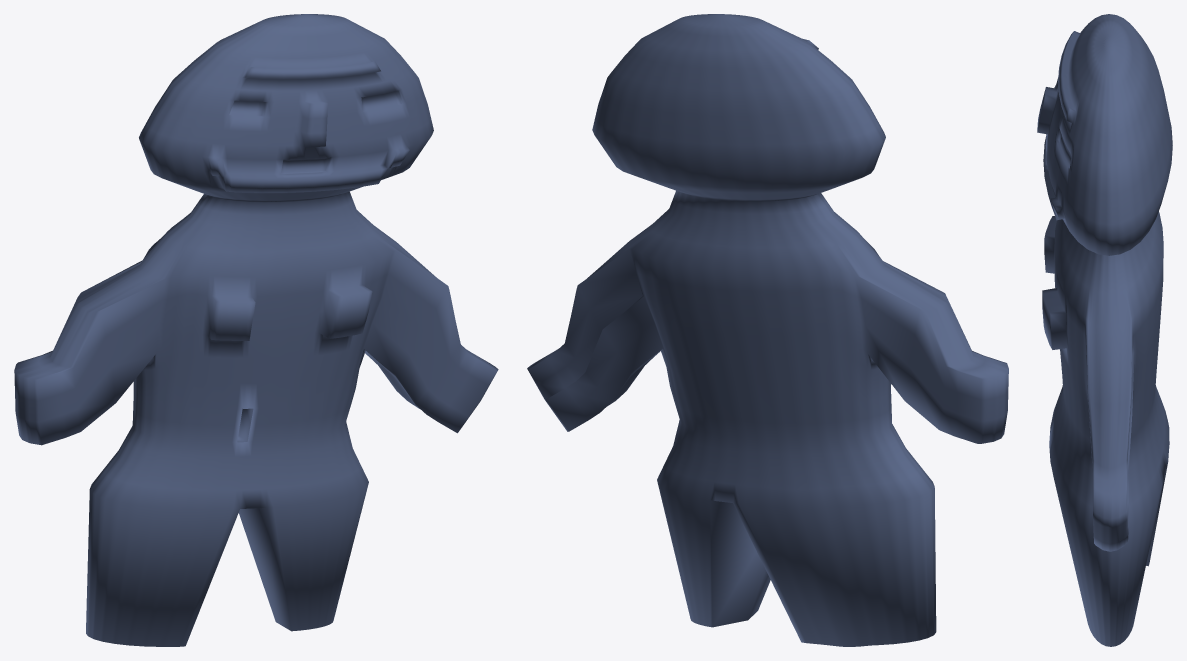
Rendered from dogu_dammy1.glb.
The picture shows the model from 3 angles, left to right: view 1: azimuth 30°, elevation 25°; view 2: azimuth 150°, elevation 25°; view 3: azimuth 270°, elevation 25°; orthographic projection. The views are drawn at different scales.
Parts seen in each view (by area): view 1: 球.001; view 2: 球.001; view 3: 球.001.
Boxes of the visible parts, left/top/right/bottom form: 球.001: left=14, top=14, right=498, bottom=646; 球.001: left=527, top=14, right=1008, bottom=646; 球.001: left=1037, top=14, right=1172, bottom=646.
Size of the model in its own units: 2.85 by 3.49 by 0.7255.
